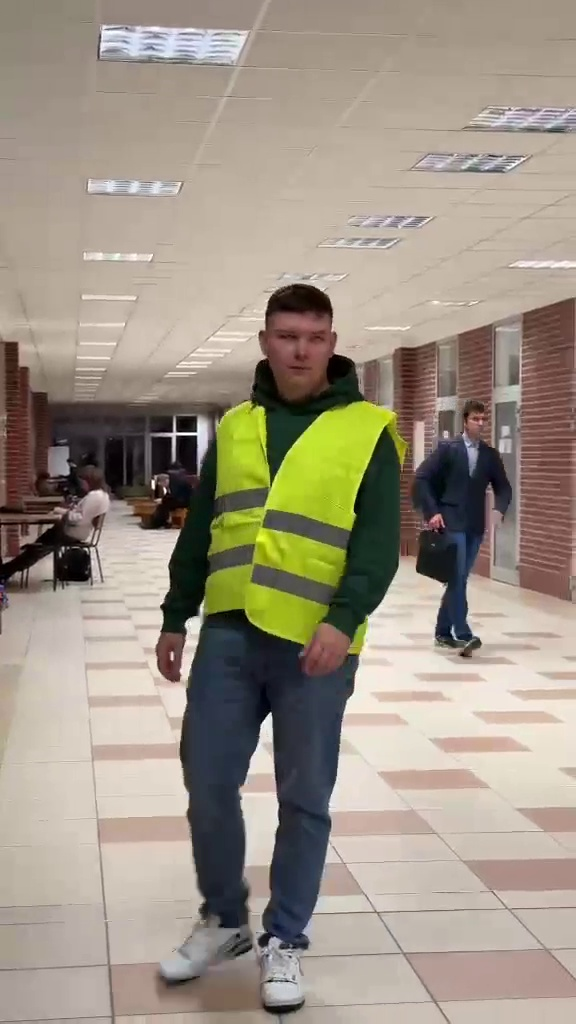no vest: (412, 403, 513, 653), (10, 461, 114, 585)
vest: (168, 285, 412, 985)
